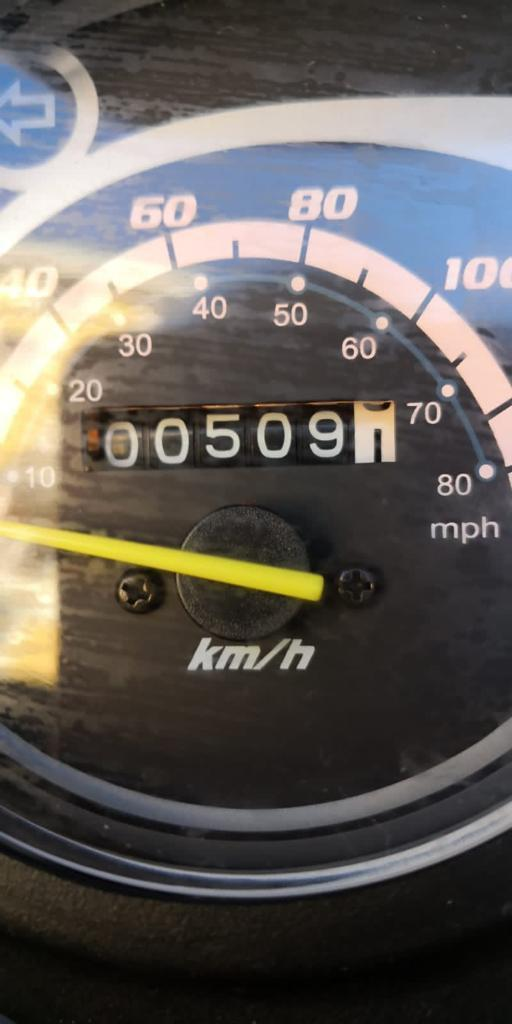0: (257, 405, 296, 465), (101, 411, 140, 466), (152, 415, 192, 465)
1: (363, 424, 393, 471)
5: (201, 408, 244, 461)
9: (305, 405, 344, 458)
odometer: (76, 395, 402, 476)
